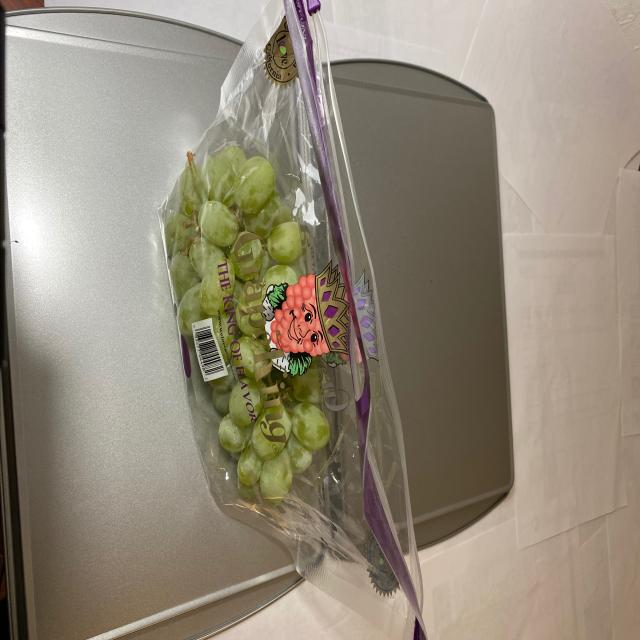grapes: (163, 133, 338, 542)
